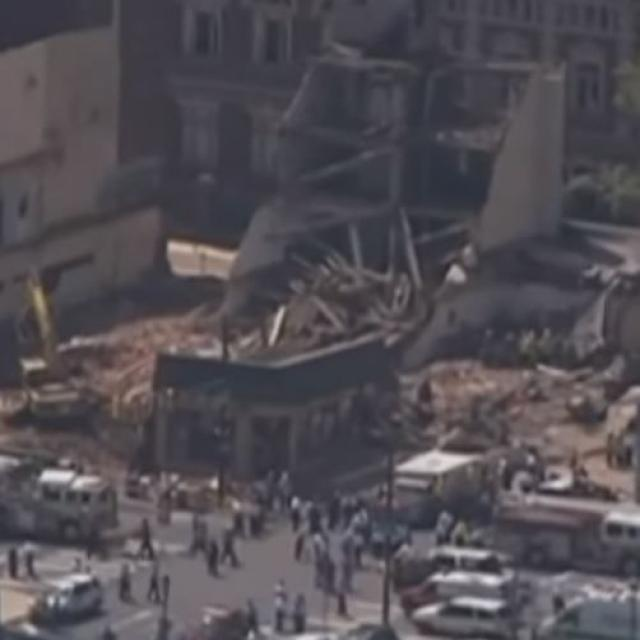collapsed_building: (154, 65, 547, 480)
